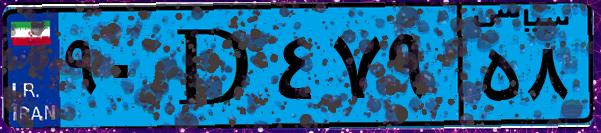0: (110, 28, 158, 98)
4: (270, 28, 330, 110)
5: (475, 38, 525, 113)
7: (330, 28, 385, 110)
8: (525, 38, 570, 115)
9: (385, 28, 445, 110), (57, 26, 110, 100)
D: (158, 12, 270, 120)
